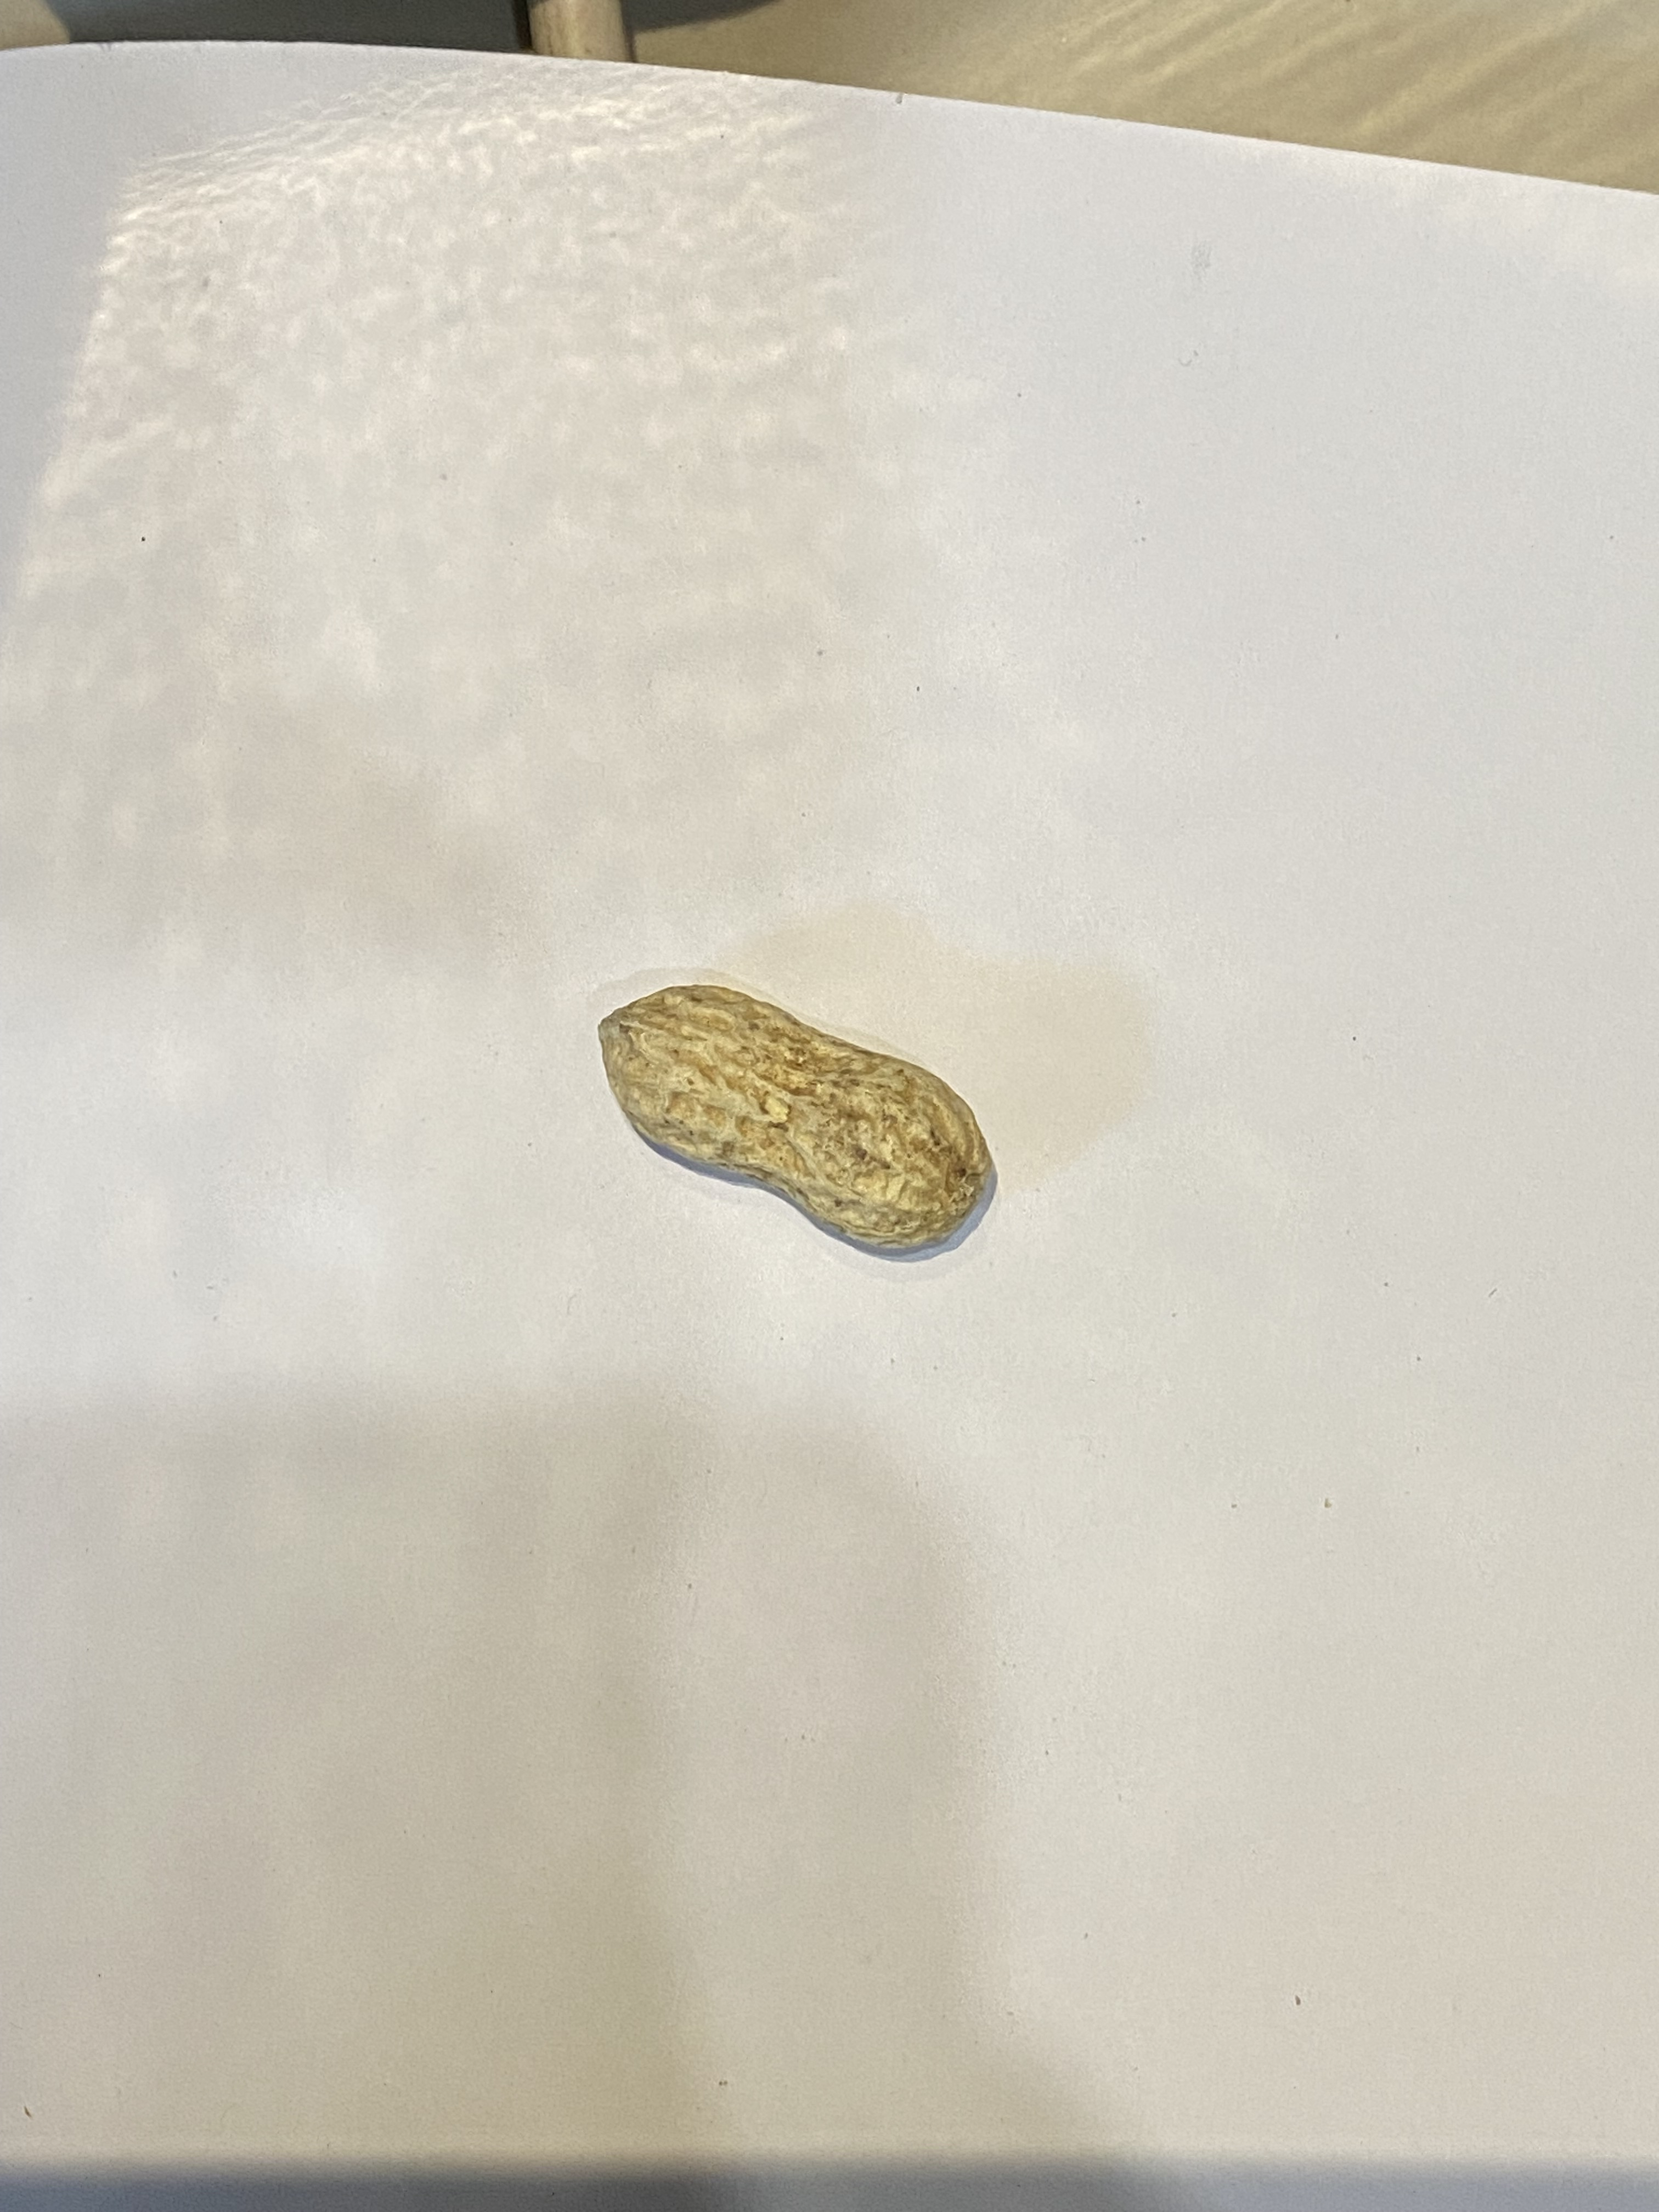kacang2: (594, 979, 995, 1256)
